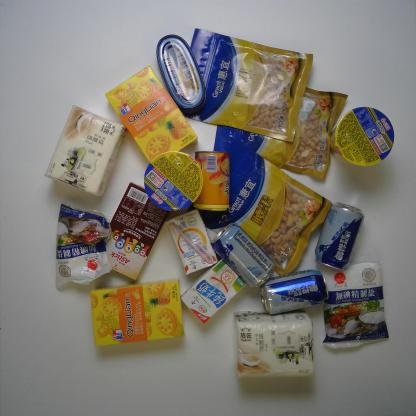Alcohol: (210, 224, 276, 288), (314, 202, 366, 272), (261, 270, 330, 317)
Canned Food: (156, 34, 205, 112), (191, 150, 233, 214)
Dessert: (104, 64, 198, 166), (94, 182, 170, 280), (89, 280, 186, 348)
Dried Fruit: (186, 138, 333, 278), (178, 28, 314, 143), (212, 72, 349, 180)
Instant Noodles: (328, 108, 396, 167), (143, 150, 204, 214)
Milk: (181, 259, 247, 324), (166, 210, 218, 274)
Seasoner: (318, 262, 390, 352), (55, 202, 114, 285)
Tissue: (43, 104, 128, 199), (234, 310, 316, 381)
